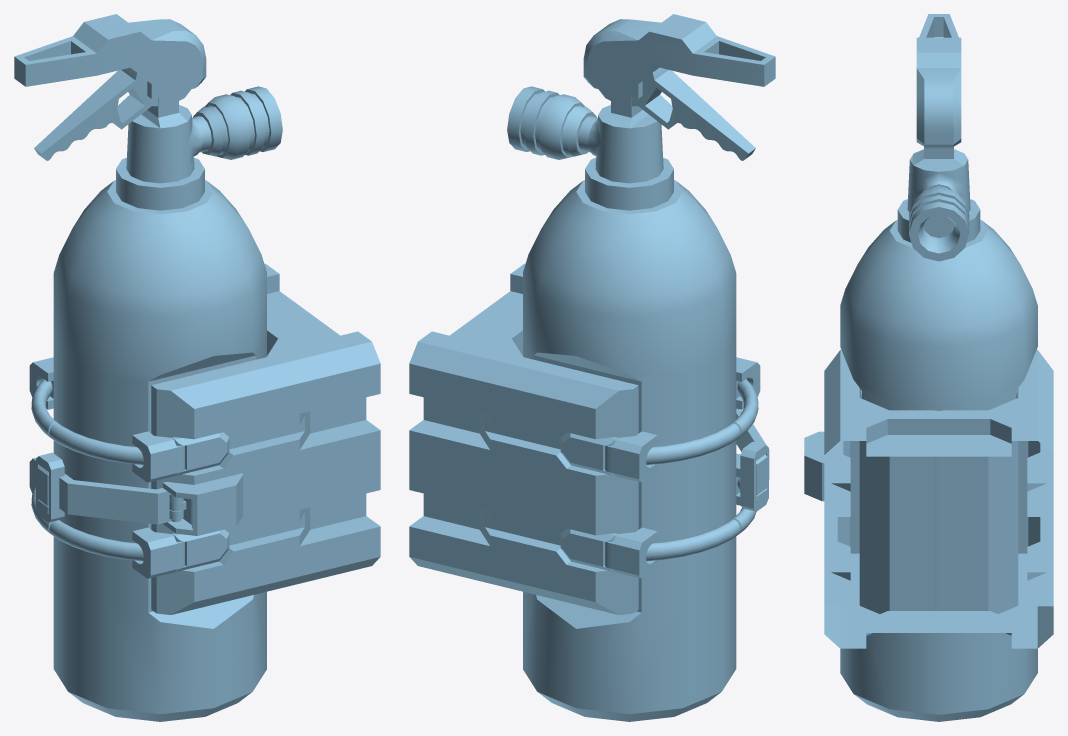
The model's file is Extinguisher.fbx.
The picture shows the model from 3 angles, left to right: view 1: azimuth 30°, elevation 25°; view 2: azimuth 150°, elevation 25°; view 3: azimuth 270°, elevation 25°; orthographic projection. The views are drawn at different scales.
Parts seen in each view (by area): view 1: Extinguisher_3_low, Extinguisher_4_low, Extinguisher_1_low, Extinguisher_2_low, Extinguisher_10_low, Extinguisher_8_low, Extinguisher_9_low, Extinguisher_18_low, Extinguisher_6_low, Extinguisher_11_low, Extinguisher_17_low, Extinguisher_7_low; view 2: Extinguisher_3_low, Extinguisher_4_low, Extinguisher_1_low, Extinguisher_2_low, Extinguisher_7_low, Extinguisher_17_low, Extinguisher_5_low, Extinguisher_11_low, Extinguisher_18_low, Extinguisher_8_low; view 3: Extinguisher_4_low, Extinguisher_3_low, Extinguisher_1_low, Extinguisher_9_low.
Boxes of the visible parts, box(x1,y1,x2,y2) form: Extinguisher_3_low: box(53, 86, 282, 721); Extinguisher_4_low: box(151, 263, 380, 614); Extinguisher_1_low: box(14, 14, 206, 98); Extinguisher_2_low: box(34, 67, 190, 160); Extinguisher_10_low: box(59, 474, 183, 524); Extinguisher_8_low: box(132, 431, 184, 578); Extinguisher_9_low: box(163, 473, 243, 535); Extinguisher_18_low: box(49, 423, 143, 561); Extinguisher_6_low: box(172, 432, 229, 572); Extinguisher_11_low: box(36, 452, 64, 522); Extinguisher_17_low: box(31, 379, 58, 534); Extinguisher_7_low: box(29, 357, 53, 493); Extinguisher_3_low: box(507, 86, 736, 721); Extinguisher_4_low: box(409, 263, 638, 614); Extinguisher_1_low: box(583, 14, 775, 98); Extinguisher_2_low: box(599, 67, 755, 160); Extinguisher_7_low: box(605, 431, 657, 578); Extinguisher_17_low: box(646, 423, 740, 561); Extinguisher_5_low: box(560, 432, 617, 572); Extinguisher_11_low: box(740, 441, 768, 511); Extinguisher_18_low: box(731, 379, 758, 534); Extinguisher_8_low: box(736, 357, 760, 505); Extinguisher_4_low: box(824, 349, 1053, 648); Extinguisher_3_low: box(840, 146, 1037, 721); Extinguisher_1_low: box(916, 14, 961, 146); Extinguisher_9_low: box(804, 431, 843, 501).
Bounding box in the file's own units: 26.72 × 57.17 × 20.85.
